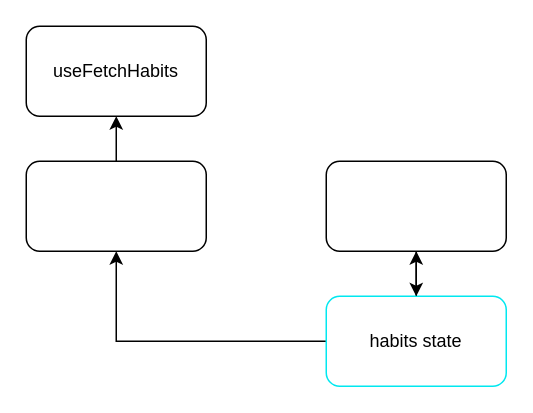
Image size: 533x413. Some labels were removed from this diagram. The shapes that lost their labels are listed below. From the top down, each one's centre as x and y in pixels, then its label:
At pixel 115 205: "useHabits".
At pixel 415 205: "HabitDetails".
